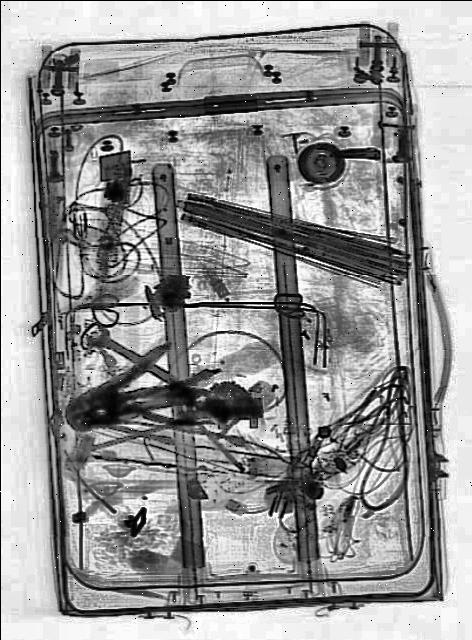Pliers: (56, 336, 191, 448)
Wrench: (83, 314, 180, 392)
